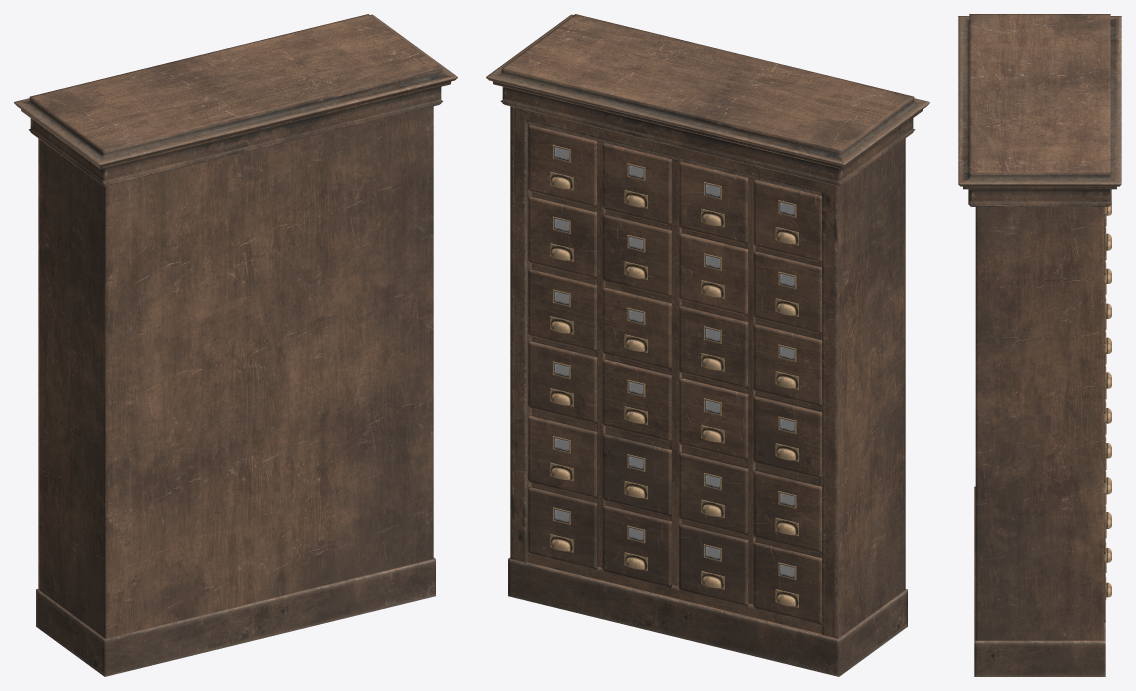
The model's file is SM_Locker01_6_LOD0.glb.
The picture shows the model from 3 angles, left to right: view 1: azimuth 30°, elevation 25°; view 2: azimuth 150°, elevation 25°; view 3: azimuth 270°, elevation 25°; orthographic projection. The views are drawn at different scales.
Parts seen in each view (by area): view 1: SM_Locker01_6_LOD0; view 2: SM_Locker01_6_LOD0; view 3: SM_Locker01_6_LOD0.
Boxes of the visible parts, x1,y1,x2,y2 form: SM_Locker01_6_LOD0: (14,14,457,676); SM_Locker01_6_LOD0: (486,14,929,676); SM_Locker01_6_LOD0: (958,14,1121,676).
Size of the model in its own units: 1.34 by 1.89 by 0.5508.
1 material, 1 textured.
